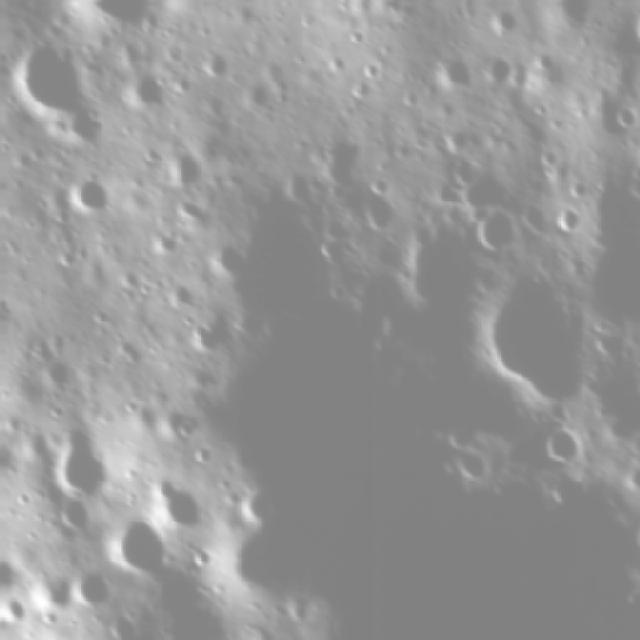crater: (469, 268, 605, 401), (0, 36, 108, 150), (41, 423, 113, 492), (97, 519, 172, 567), (72, 0, 175, 25), (162, 140, 205, 191), (152, 478, 203, 520), (121, 65, 167, 110), (536, 422, 586, 462), (423, 48, 472, 88), (202, 233, 250, 273), (59, 176, 112, 210), (470, 201, 512, 242), (162, 402, 202, 441), (158, 268, 198, 306), (0, 589, 35, 629), (198, 44, 239, 78), (72, 568, 113, 601), (184, 312, 218, 350), (97, 612, 143, 640), (484, 4, 524, 36), (142, 223, 182, 254), (607, 400, 640, 437), (275, 171, 316, 200), (362, 190, 391, 230), (449, 454, 497, 478), (53, 492, 87, 525), (38, 353, 73, 384), (480, 54, 514, 84), (282, 589, 312, 622), (438, 123, 471, 152), (437, 422, 480, 444), (552, 202, 578, 233), (241, 78, 273, 102), (311, 232, 340, 258), (609, 101, 640, 125), (624, 0, 640, 46), (0, 407, 25, 436), (53, 242, 82, 266), (563, 172, 589, 197), (321, 279, 347, 303), (339, 23, 370, 43), (319, 45, 343, 70), (7, 483, 33, 506), (535, 143, 560, 165), (394, 86, 420, 106), (0, 556, 15, 588), (358, 55, 380, 76), (623, 464, 640, 488), (0, 292, 11, 326), (631, 513, 640, 553), (526, 99, 548, 115)
